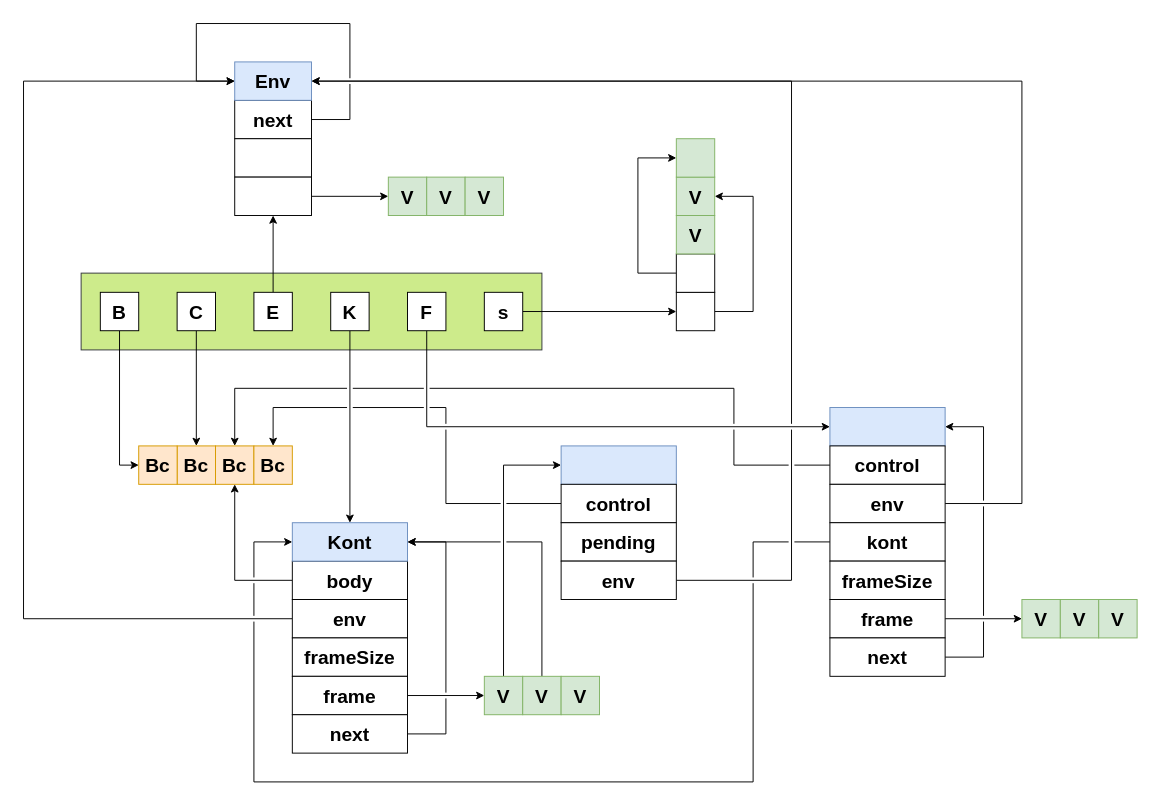
This 1154x806 diagram has some shape labels left out. Each missing label, with the centre of its shape:
Clo: (618,464)
count: (273,157)
Cp: (695,272)
Fail: (887,426)
SP: (695,311)
values: (273,196)
